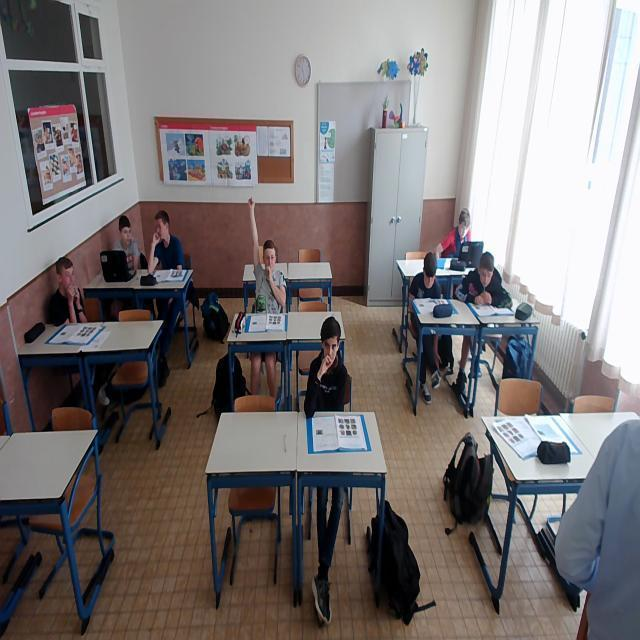Looking away: (54, 257, 76, 291), (117, 214, 134, 246), (152, 210, 170, 240), (423, 255, 438, 288), (457, 209, 471, 237)
Looking forward: (320, 317, 342, 366)
Raising hand: (245, 195, 291, 310)
Reading-writing: (452, 252, 514, 311)
